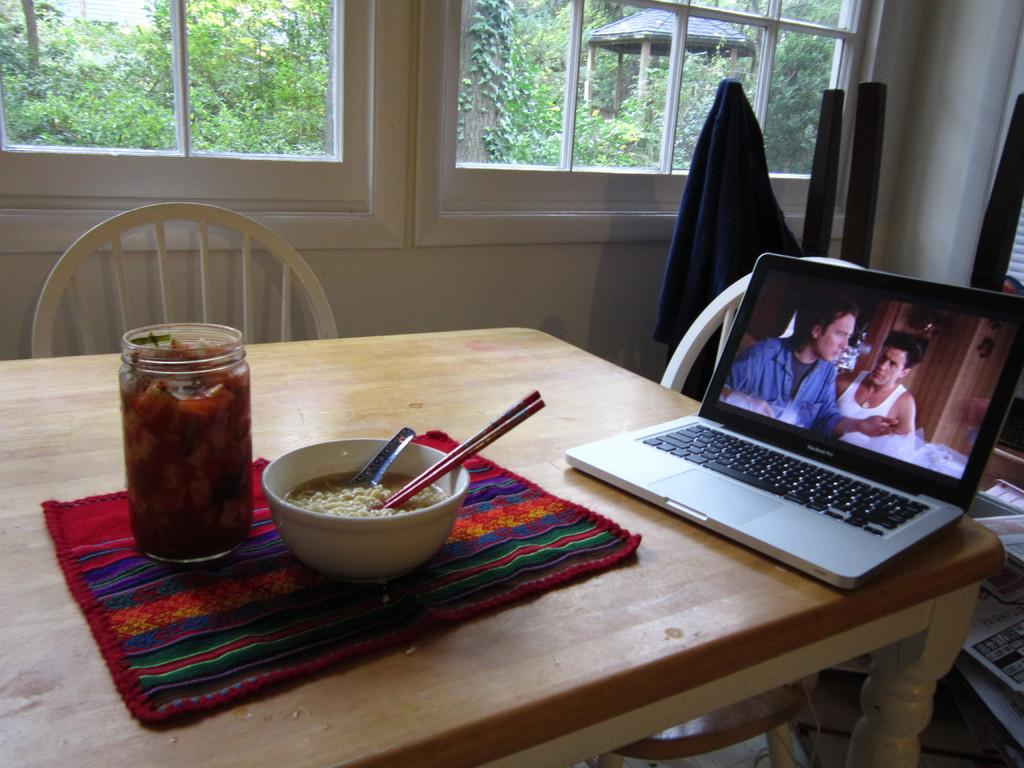Computer-keyboard: (640, 419, 933, 538)
Laptop: (573, 257, 1012, 597)
